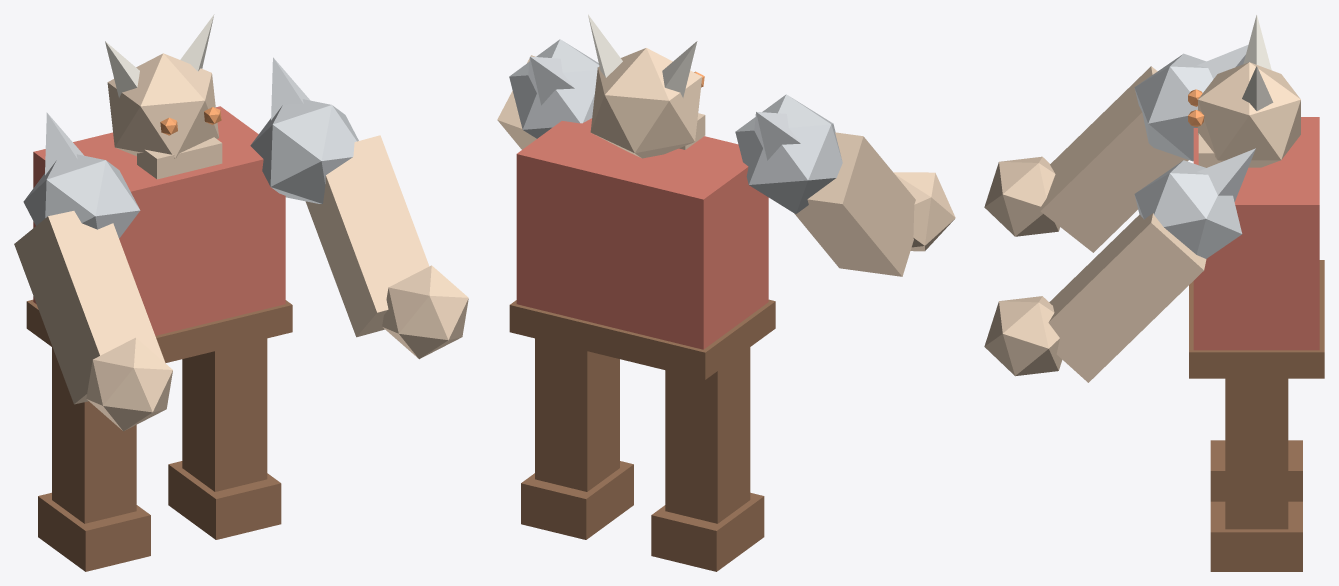
Rendered from npcpose_brute_attack_00.glb.
The picture shows the model from 3 angles, left to right: view 1: azimuth 30°, elevation 25°; view 2: azimuth 150°, elevation 25°; view 3: azimuth 270°, elevation 25°; orthographic projection. The views are drawn at different scales.
Visible parts, largest first — view 1: npcpose; view 2: npcpose; view 3: npcpose.
Part boxes in pixels (box(x1,y1,x2,y2)): npcpose: box(14, 14, 468, 571); npcpose: box(497, 14, 955, 571); npcpose: box(984, 14, 1324, 571).
Bounding box in the file's own units: 1.43 × 1.86 × 1.18.
